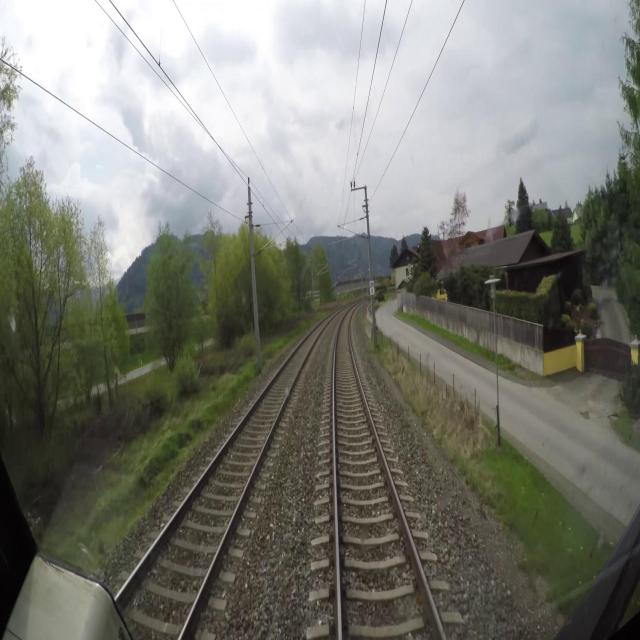rail-track: (119, 319, 327, 639), (335, 308, 441, 639)
